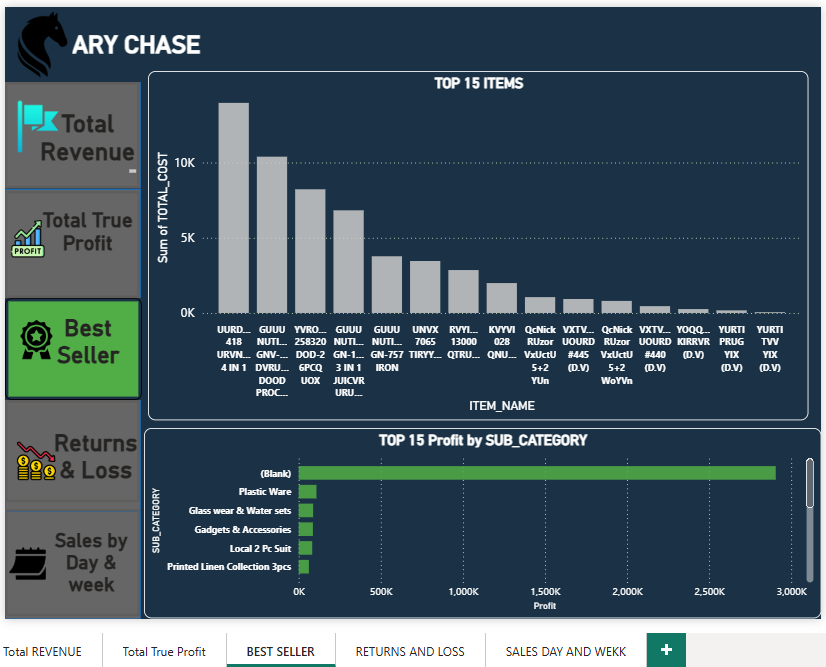

What the dashboard file says about the page in this screenshot:
{"tool":"powerbi","page":{"name":"BEST SELLER","canvas":[960,720],"ordinal":2},"visuals":[{"type":"image","box":[0,0,88.4,88.4],"z":0},{"type":"textbox","title":"ARY CHASE","box":[74.6,27.6,168.8,34.4],"z":1000},{"type":"shape","box":[0,342,160.9,120.4],"z":2000},{"type":"shape","box":[0,88.4,159.6,125.2],"z":3000},{"type":"shape","box":[0,213.8,159.8,128.2],"z":4000},{"type":"shape","box":[0,462.8,159.6,129.8],"z":5000},{"type":"shape","box":[0,592.5,159.6,127.5],"z":6000},{"type":"textbox","title":"Total Revenue","box":[35.6,120.6,124,80.4],"z":7000},{"type":"image","box":[0,99.9,73.5,81.5],"z":8000},{"type":"textbox","title":"Total True Profit","box":[34.4,236.6,126.3,63.2],"z":9000},{"type":"image","box":[0,244.6,54,55.1],"z":10000},{"type":"textbox","title":"Best Seller","box":[31.4,361,132.1,92.9],"z":11000},{"type":"image","box":[0,360.6,73.5,62],"z":12000},{"type":"textbox","title":"Returns & Loss","box":[44.8,496.1,124,64.3],"z":13000},{"type":"image","box":[0,506.4,73.5,56.3],"z":14000},{"type":"textbox","title":"Sales by Day & week","box":[44.8,614.4,113.7,79.2],"z":15000},{"type":"image","box":[0,628.1,54,52.8],"z":16000},{"type":"actionButton","box":[0,88.4,158.5,125.2],"z":17000},{"type":"actionButton","box":[0,216,158.6,126],"z":18000},{"type":"actionButton","box":[0,462.4,158.6,120.4],"z":19000},{"type":"clusteredColumnChart","title":"TOP 15 ITEMS","fields":{"Y":["SQL Results.TOTAL_COST"],"Category":["SQL Results.ITEM_NAME"]},"box":[168.7,75.9,776.9,410.7],"z":20000},{"type":"clusteredBarChart","title":"TOP 15 Profit by SUB_CATEGORY","fields":{"Y":["SQL Results.Actual Profit Should be:"],"Category":["SQL Results.SUB_CATEGORY"]},"box":[163.5,495.7,796.5,223.7],"z":21000},{"type":"actionButton","box":[0,590,158.8,126.2],"z":22000}]}

Visuals, with their boxes on the page's 960x720 design canvas (x1, y1, x2, y2). These are canvas units, not pixel positions in the 826x667 screenshot, which may show the page scaled, cropped or inside an application window:
image: left=0, top=0, right=88, bottom=88
"ARY CHASE" textbox: left=75, top=28, right=243, bottom=62
shape: left=0, top=342, right=161, bottom=462
shape: left=0, top=88, right=160, bottom=214
shape: left=0, top=214, right=160, bottom=342
shape: left=0, top=463, right=160, bottom=593
shape: left=0, top=592, right=160, bottom=720
"Total Revenue" textbox: left=36, top=121, right=160, bottom=201
image: left=0, top=100, right=74, bottom=181
"Total True Profit" textbox: left=34, top=237, right=161, bottom=300
image: left=0, top=245, right=54, bottom=300
"Best Seller" textbox: left=31, top=361, right=164, bottom=454
image: left=0, top=361, right=74, bottom=423
"Returns & Loss" textbox: left=45, top=496, right=169, bottom=560
image: left=0, top=506, right=74, bottom=563
"Sales by Day & week" textbox: left=45, top=614, right=158, bottom=694
image: left=0, top=628, right=54, bottom=681
actionButton: left=0, top=88, right=158, bottom=214
actionButton: left=0, top=216, right=159, bottom=342
actionButton: left=0, top=462, right=159, bottom=583
"TOP 15 ITEMS" clusteredColumnChart: left=169, top=76, right=946, bottom=487
"TOP 15 Profit by SUB_CATEGORY" clusteredBarChart: left=164, top=496, right=960, bottom=719
actionButton: left=0, top=590, right=159, bottom=716
